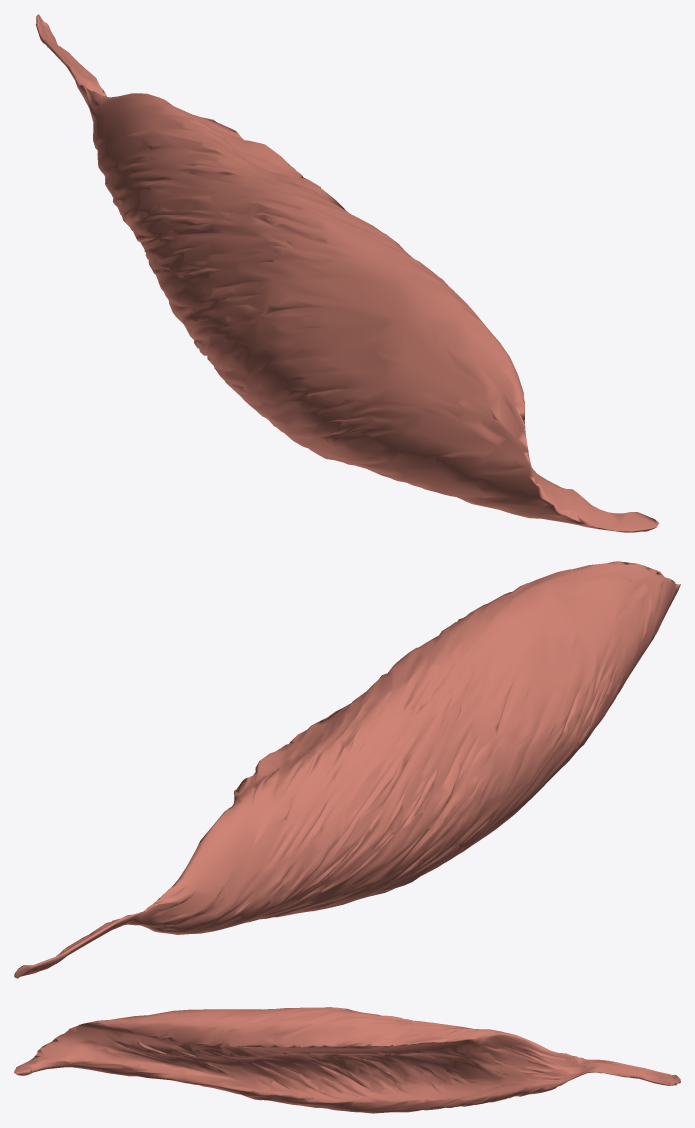
3 views of the same model, one above another, from view 1: azimuth 30°, elevation 25°; view 2: azimuth 150°, elevation 25°; view 3: azimuth 270°, elevation 25° (orthographic). The views are drawn at different scales.
Parts seen in each view (by area): view 1: 右侧股外侧肌; view 2: 右侧股外侧肌; view 3: 右侧股外侧肌.
Boxes of the visible parts, <box> form: 右侧股外侧肌: <box>35,14,658,532</box>; 右侧股外侧肌: <box>14,561,680,978</box>; 右侧股外侧肌: <box>14,1007,680,1113</box>.
Size of the model in its own units: 0.1091 by 0.1167 by 0.6739.
